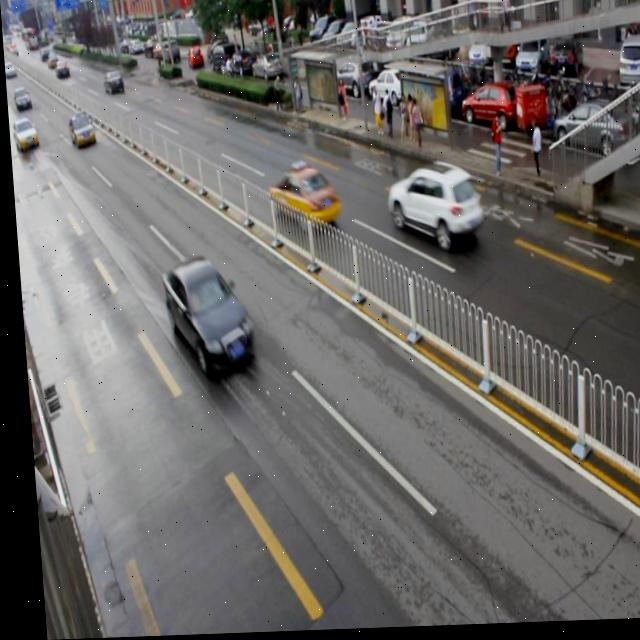car: (157, 256, 252, 375), (383, 162, 481, 252), (265, 164, 338, 234)
